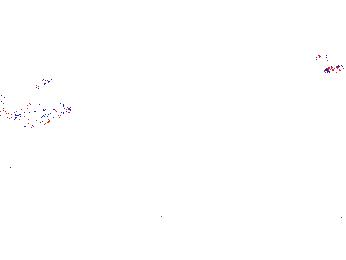glassfish: (1, 113, 83, 167)
red belly glassfish: (314, 50, 341, 64), (323, 63, 344, 73)
redtail glassfish: (1, 76, 53, 102), (19, 103, 77, 125)
